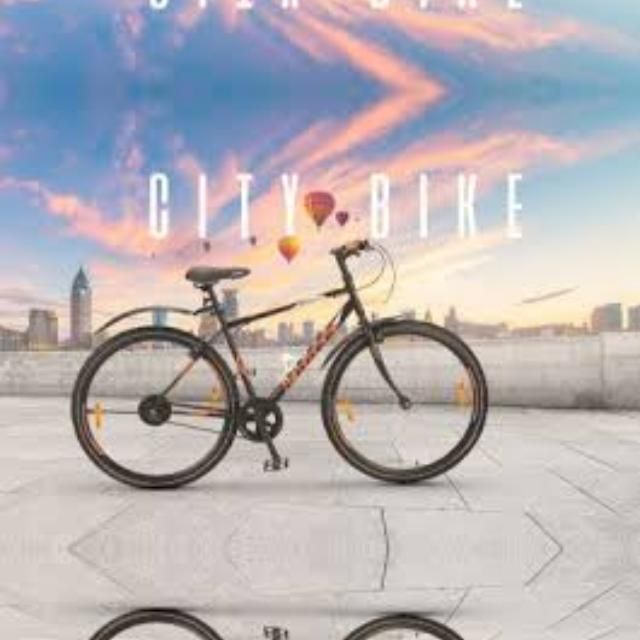obstacle: (51, 231, 520, 503), (50, 595, 519, 640)
